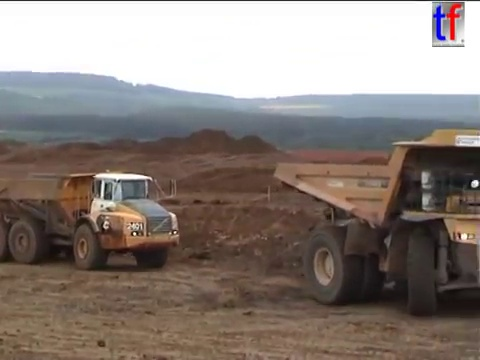truck: (271, 126, 480, 317), (1, 167, 182, 271)
